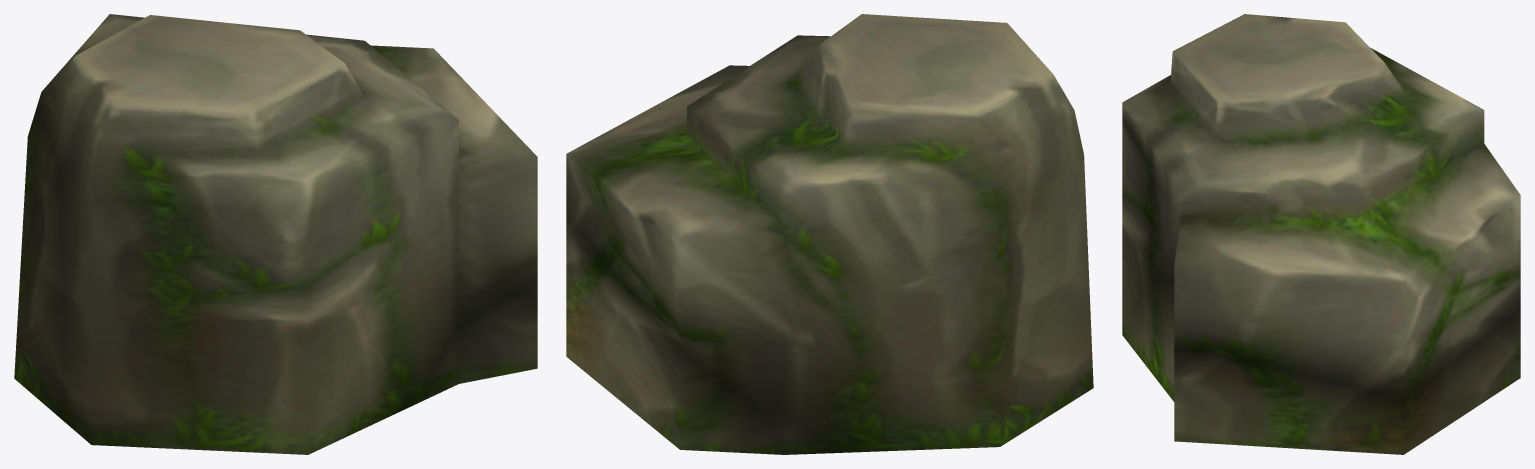
Rendered from RockFormation_4_5 (24).fbx.
3 views of the same model, side by side, from view 1: azimuth 30°, elevation 25°; view 2: azimuth 150°, elevation 25°; view 3: azimuth 270°, elevation 25° (orthographic). The views are drawn at different scales.
Visible parts, largest first — view 1: RockFormation_4_5 (24); view 2: RockFormation_4_5 (24); view 3: RockFormation_4_5 (24).
Boxes of the visible parts, box(x1,y1,x2,y2) form: RockFormation_4_5 (24): box(14, 14, 537, 454); RockFormation_4_5 (24): box(566, 14, 1093, 454); RockFormation_4_5 (24): box(1122, 14, 1520, 454).
Size of the model in its own units: 2435 by 1698 by 2252.
